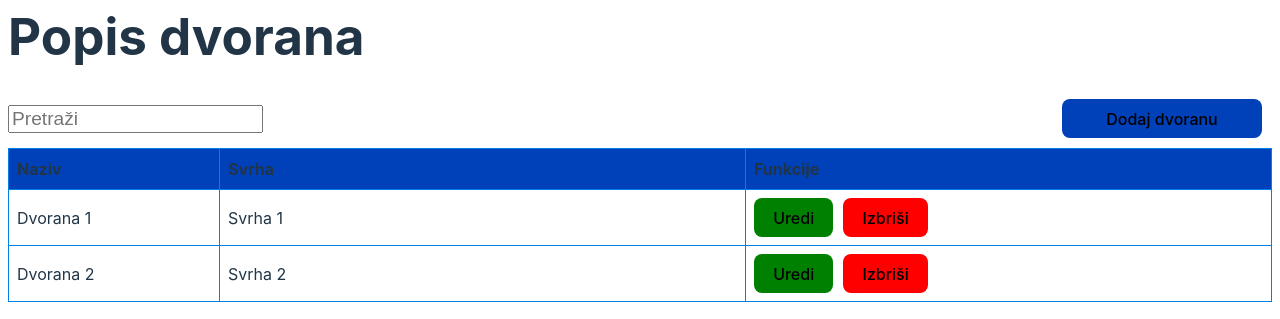
DvoraneAdministrator › filtrira dvorane prema pojmu za pretraživanje
The width and height of the screenshot is (1280, 319).
Type "Dvorana 1" into the field with placeholder "Pretraži". click: (136, 118)
box: [8, 104, 263, 132]
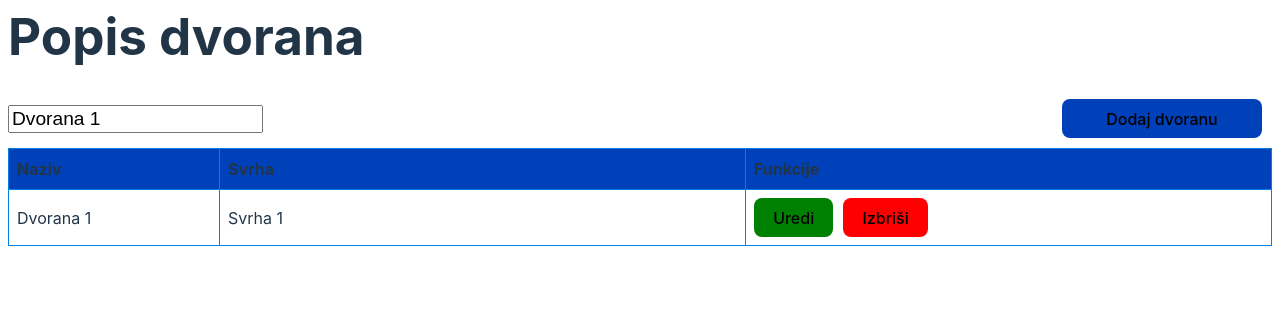
Check: the text "Dvorana 1" is shown, box [8, 190, 219, 246]
Check: the text "Dvorana 2" is gone
